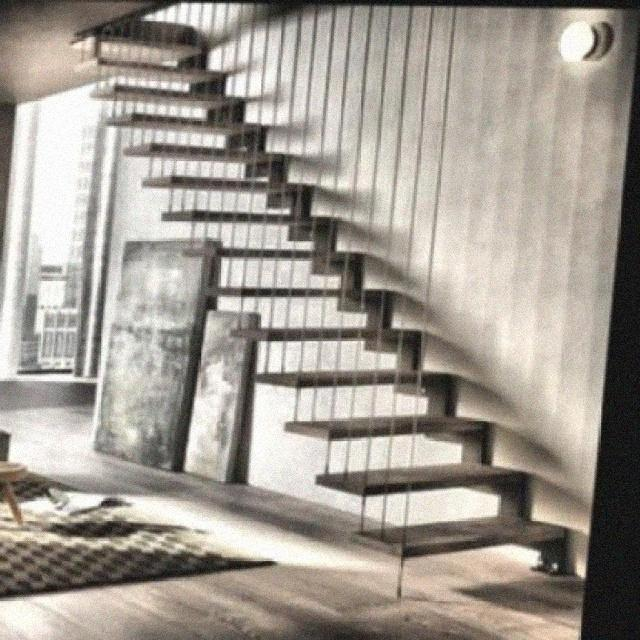stair: (218, 163, 604, 540)
